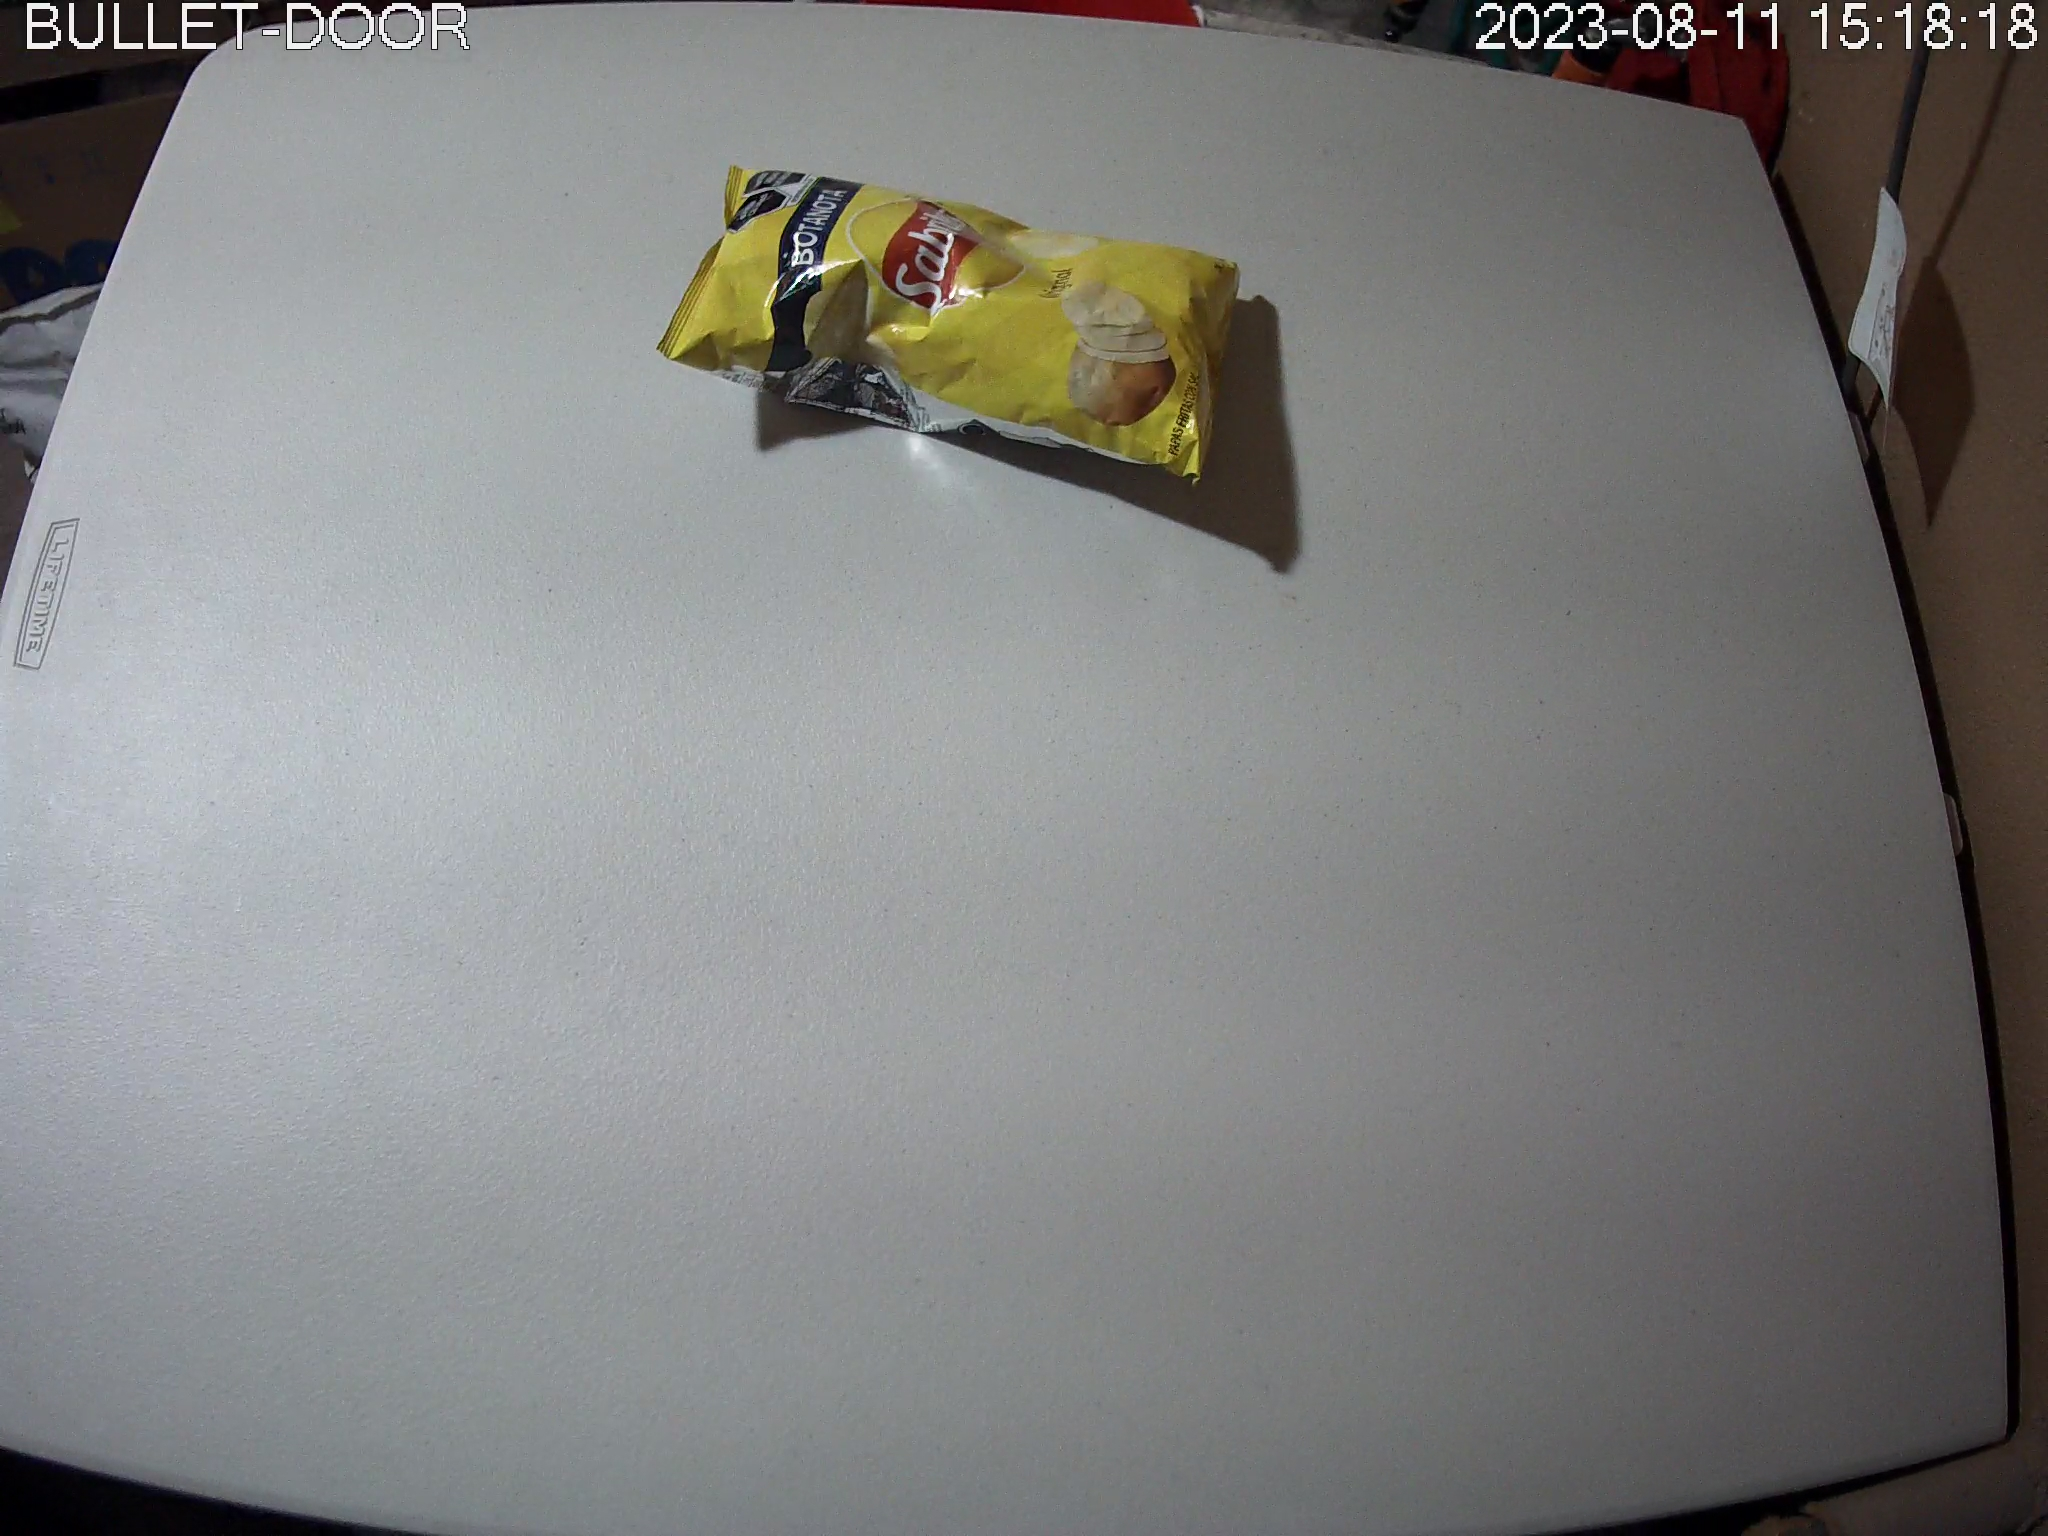Sabritas_64_F: (656, 163, 1242, 490)
